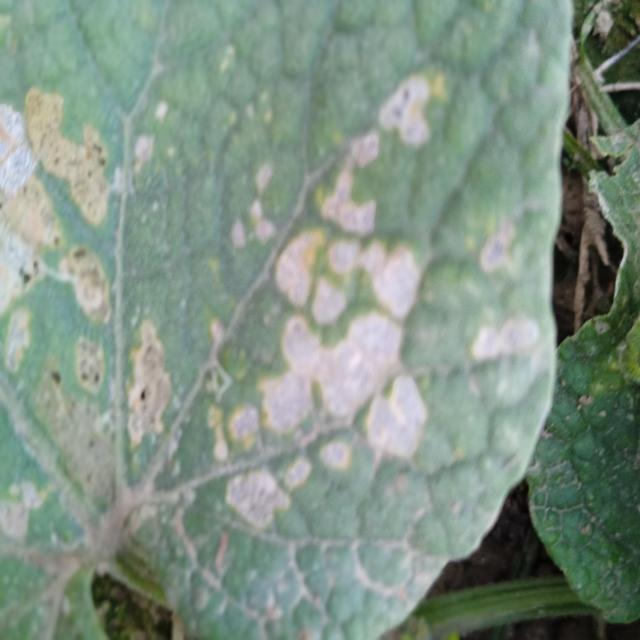cucumber_anthracnose: (15, 18, 543, 572)
